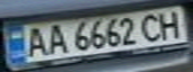2: (118, 15, 142, 46)
6: (87, 17, 109, 50), (69, 19, 90, 52), (103, 16, 124, 47)
A: (18, 25, 51, 58), (42, 21, 69, 55)
C: (136, 11, 166, 43)
H: (154, 8, 187, 39)
